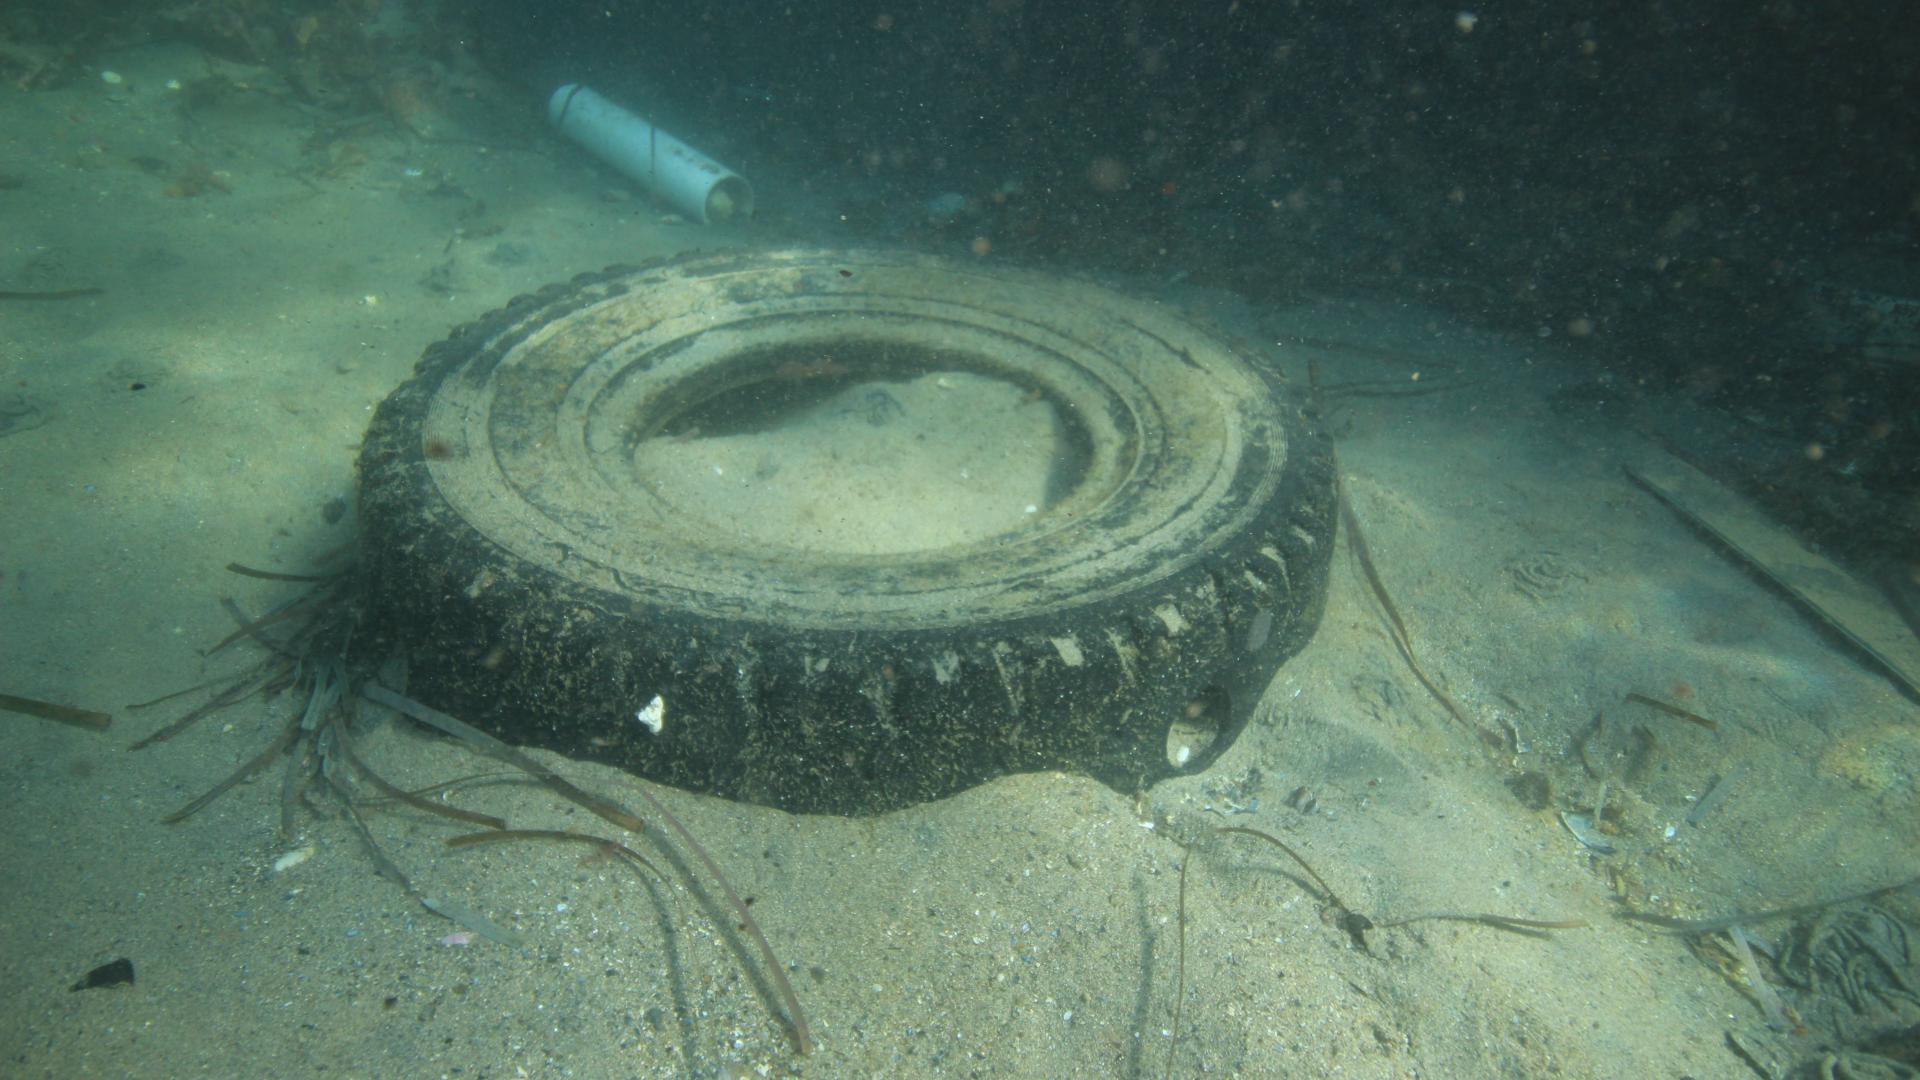tire: (353, 244, 1335, 818)
